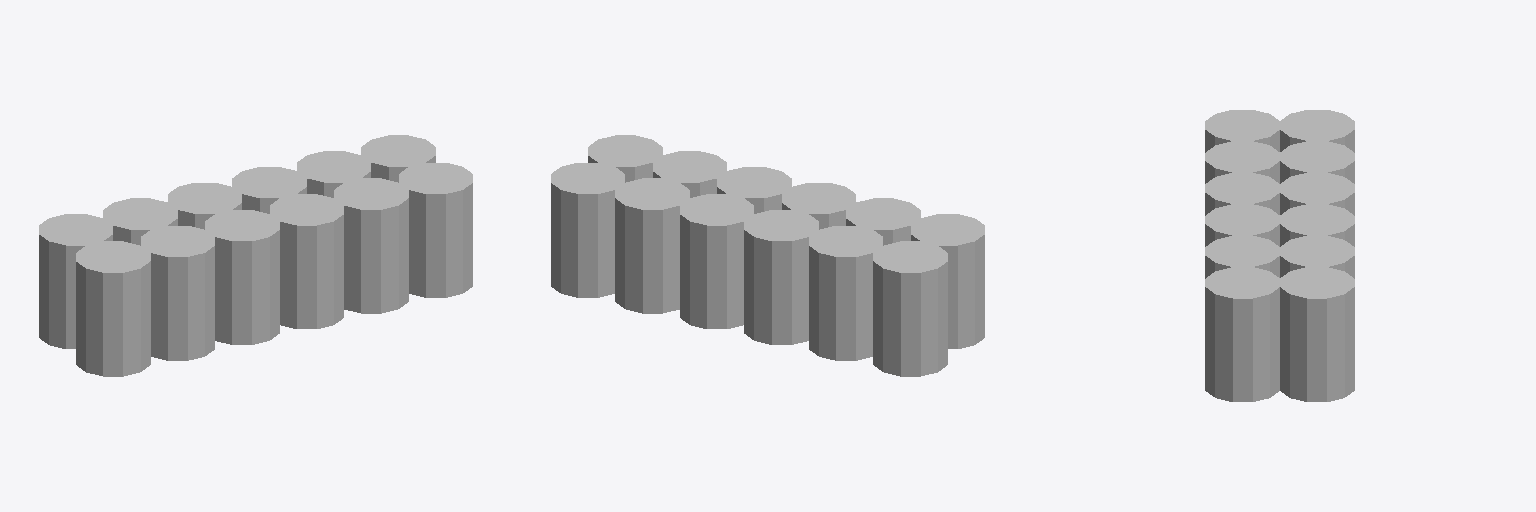
The model's file is Tires_Barrier.obj.
3 renders of one model, left to right at view 1: azimuth 30°, elevation 25°; view 2: azimuth 150°, elevation 25°; view 3: azimuth 270°, elevation 25°, orthographic.
Parts seen in each view (by area): view 1: Tires-Barrier_Tires_Barrier.001; view 2: Tires-Barrier_Tires_Barrier.001; view 3: Tires-Barrier_Tires_Barrier.001.
Boxes of the visible parts, <box> form: Tires-Barrier_Tires_Barrier.001: <box>39,135,472,376</box>; Tires-Barrier_Tires_Barrier.001: <box>551,135,984,376</box>; Tires-Barrier_Tires_Barrier.001: <box>1205,110,1354,401</box>.
Size of the model in its own units: 4.21 by 1.08 by 1.4.